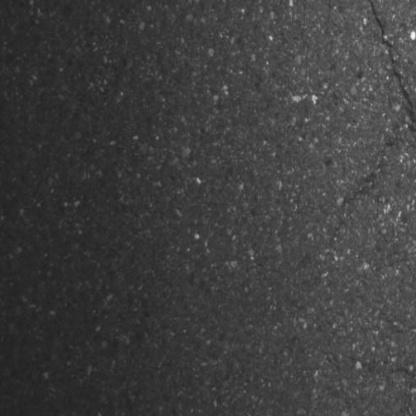Cracks: (356, 0, 416, 162)
